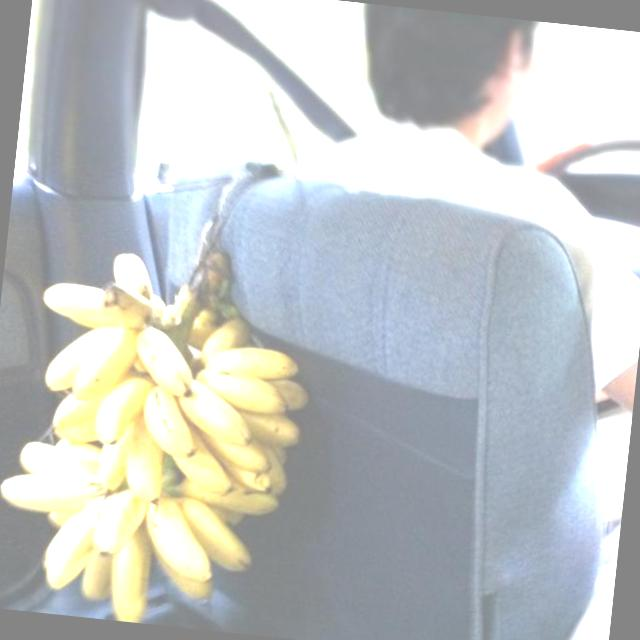Banana: (0, 242, 328, 608)
